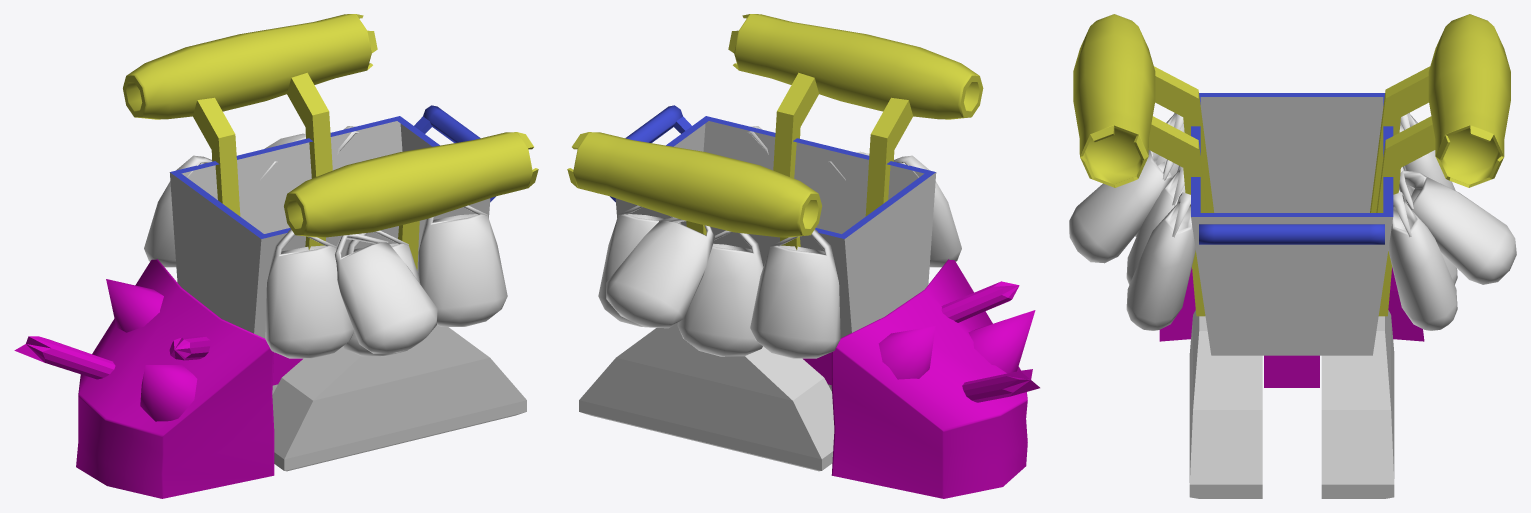
File: EKW_Complete.fbx
The picture shows the model from 3 angles, left to right: view 1: azimuth 30°, elevation 25°; view 2: azimuth 150°, elevation 25°; view 3: azimuth 270°, elevation 25°; orthographic projection. The views are drawn at different scales.
Visible parts, largest first — view 1: EKW_Booster, EKW_Ram, EKW_Bags, EKW_Linkage, EKW_Base; view 2: EKW_Booster, EKW_Ram, EKW_Bags, EKW_Linkage, EKW_Base; view 3: EKW_Base, EKW_Booster, EKW_Bags, EKW_Linkage, EKW_Ram.
Part boxes in pixels (bbox=[...]): EKW_Booster: bbox=[123, 14, 538, 270]; EKW_Ram: bbox=[14, 259, 302, 498]; EKW_Bags: bbox=[144, 126, 507, 358]; EKW_Linkage: bbox=[272, 325, 526, 471]; EKW_Base: bbox=[169, 105, 495, 352]; EKW_Booster: bbox=[567, 14, 983, 249]; EKW_Ram: bbox=[803, 259, 1039, 498]; EKW_Bags: bbox=[598, 126, 961, 358]; EKW_Linkage: bbox=[579, 322, 834, 471]; EKW_Base: bbox=[610, 105, 936, 352]; EKW_Base: bbox=[1191, 93, 1393, 355]; EKW_Booster: bbox=[1073, 14, 1510, 316]; EKW_Bags: bbox=[1069, 113, 1516, 330]; EKW_Linkage: bbox=[1189, 310, 1394, 498]; EKW_Ram: bbox=[1159, 267, 1424, 387].
Bounding box in the file's own units: 314 × 221 × 249.
